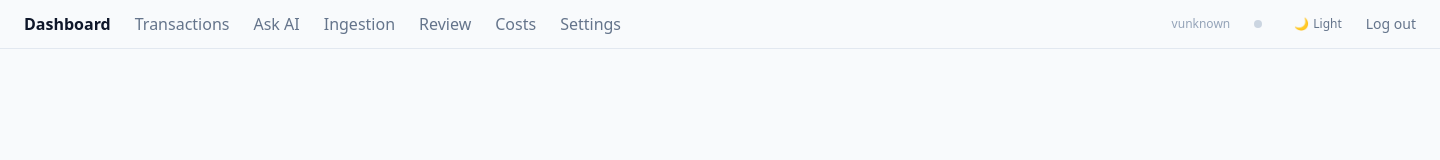
NavBar theme toggle › switches mode and updates the document's dark class when clicked
Step 1. Click the button with test id "theme-toggle" → (1318, 24), box [1286,12,1350,36]
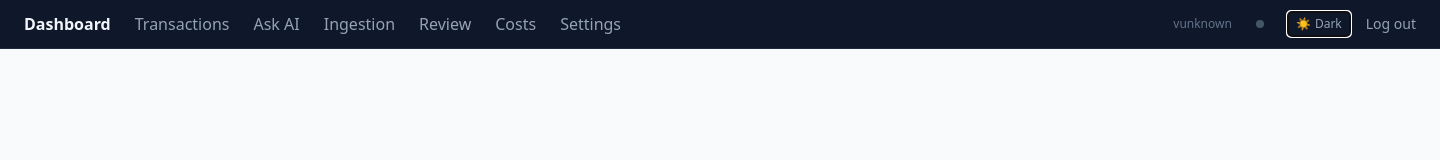
Expected: the text with test id "theme-toggle-label" reads "Dark", [1315,15,1342,32]
Step 2. Click the button with test id "theme-toggle" → (1319, 24), box [1288,12,1350,36]
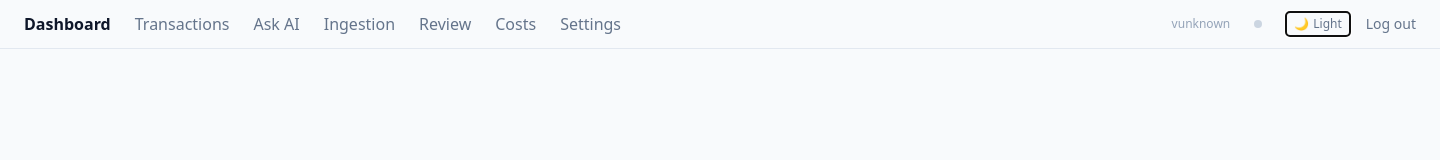
Expected: the text with test id "theme-toggle-label" reads "Light", [1313,15,1342,32]
